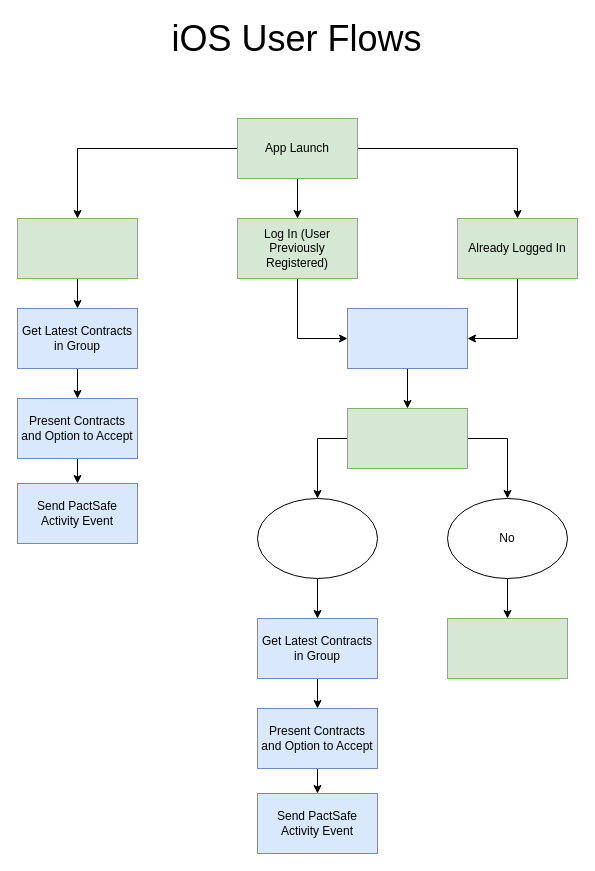
The diagram is 595 pixels wide and 871 high, and some of its shapes have lost their labels. The shapes that lost their labels are listed below. From the top down, each one's centre as x and y in pixels, then its label:
At [77,248]: "Registration (New User)".
At [407,338]: "Retrieve Latest Accepted Contracts Using Signature ID".
At [407,438]: "Contract(s) Need Acceptance".
At [317,538]: "Yes".
At [507,648]: "Continue to App".
